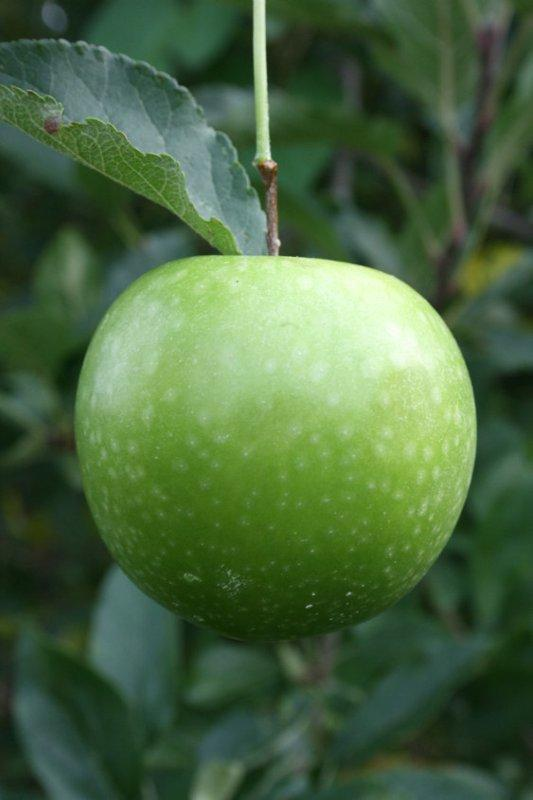apple/: (70, 236, 493, 650)
